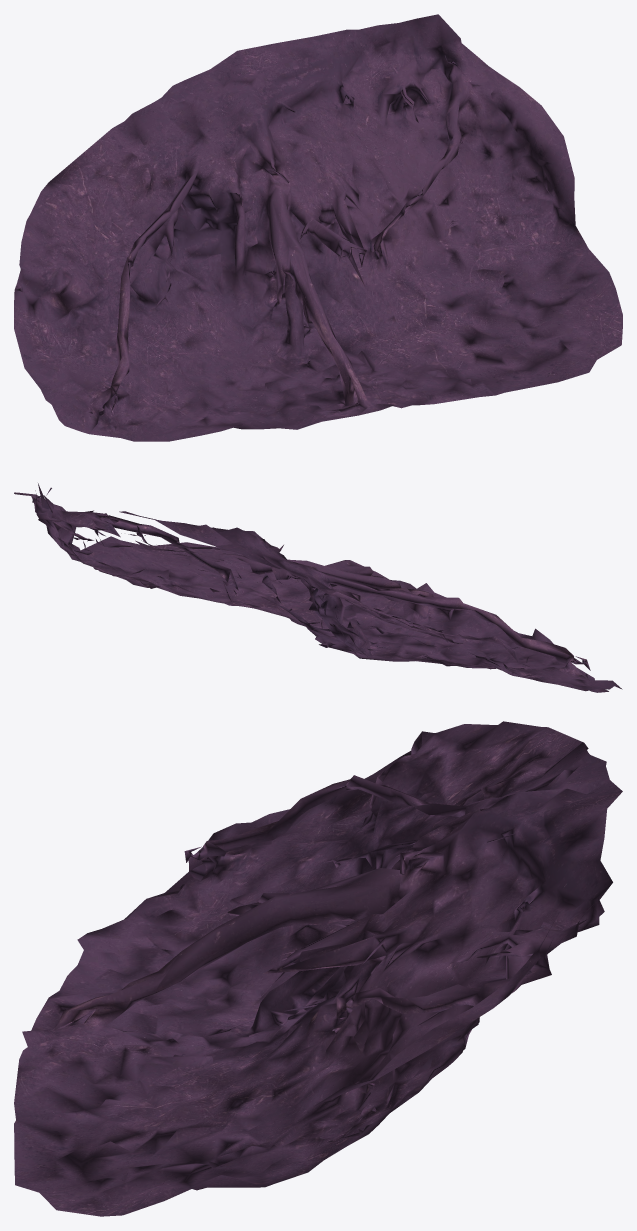
The model's file is roots-near.glb.
3 views of the same model, one above another, from view 1: azimuth 30°, elevation 25°; view 2: azimuth 150°, elevation 25°; view 3: azimuth 270°, elevation 25° (orthographic). The views are drawn at different scales.
Parts seen in each view (by area): view 1: root_cluster_01; view 2: root_cluster_01; view 3: root_cluster_01.
Boxes of the visible parts, x1=… form: root_cluster_01: x1=14, y1=14, x2=622, y2=441; root_cluster_01: x1=14, y1=483, x2=622, y2=692; root_cluster_01: x1=14, y1=721, x2=622, y2=1216.
Bounding box in the file's own units: 8.19 × 2.98 × 5.32.
1 material, 1 textured.
